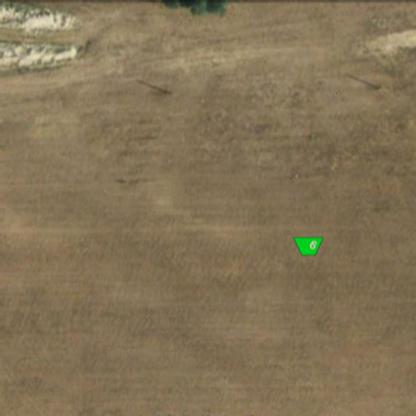6: (309, 239, 318, 251)
trapezium: (294, 236, 324, 257)
